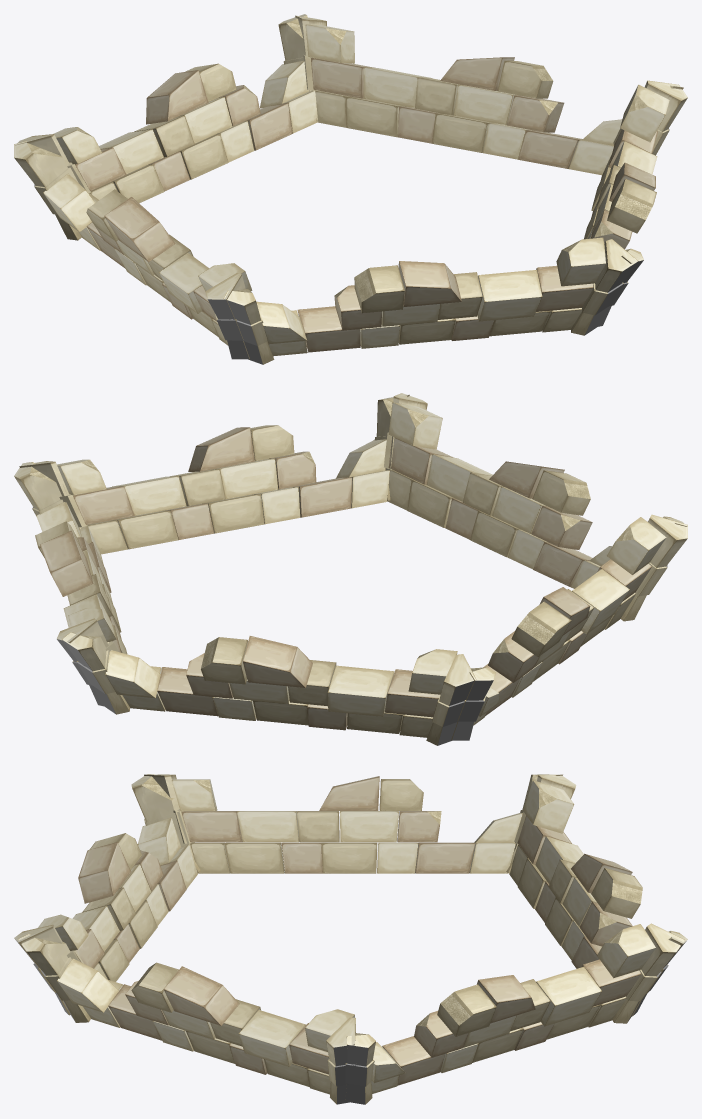
File: arena-mur3.FBX
3 renders of one model, top to bottom at view 1: azimuth 30°, elevation 25°; view 2: azimuth 150°, elevation 25°; view 3: azimuth 270°, elevation 25°, orthographic.
Parts seen in each view (by area): view 1: Box111, Box110, Box109, Box108, Box112; view 2: Box109, Box112, Box111, Box108, Box110; view 3: Box108, Box110, Box112, Box111, Box109.
Part boxes in pixels (bbox=[...]): Box111: bbox=[223, 237, 638, 364]; Box110: bbox=[295, 15, 683, 175]; Box109: bbox=[15, 14, 317, 203]; Box108: bbox=[14, 141, 252, 359]; Box112: bbox=[584, 80, 687, 326]; Box109: bbox=[62, 632, 476, 745]; Box112: bbox=[19, 394, 409, 554]; Box111: bbox=[384, 393, 687, 588]; Box108: bbox=[451, 514, 687, 740]; Box110: bbox=[14, 462, 127, 706]; Box108: bbox=[144, 774, 562, 873]; Box110: bbox=[345, 923, 684, 1104]; Box112: bbox=[18, 934, 356, 1104]; Box111: bbox=[14, 774, 200, 1015]; Box109: bbox=[506, 774, 687, 1016].
Bounding box in the file's own units: 3.33 × 0.5372 × 3.46.
Materials: 7 (6 with a texture image).
